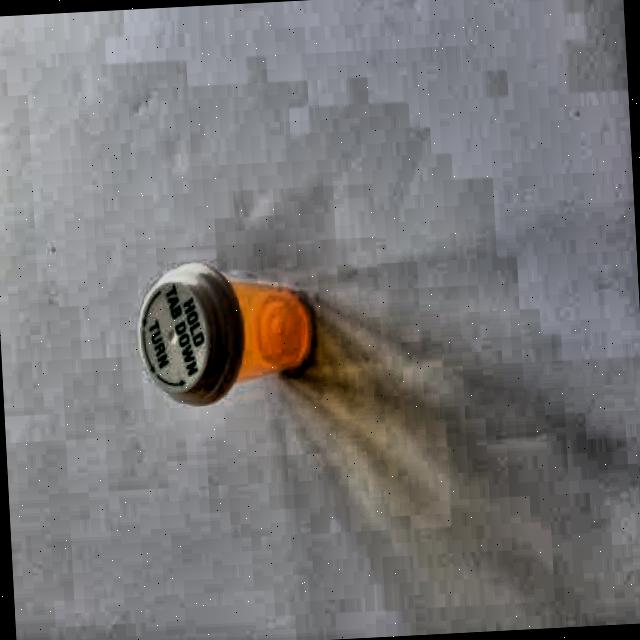plastic: (135, 256, 317, 414)
